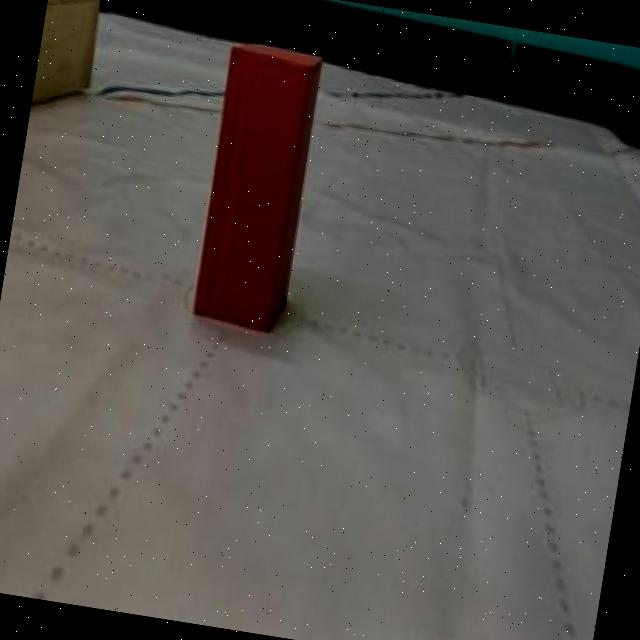redbox: (188, 38, 325, 332)
